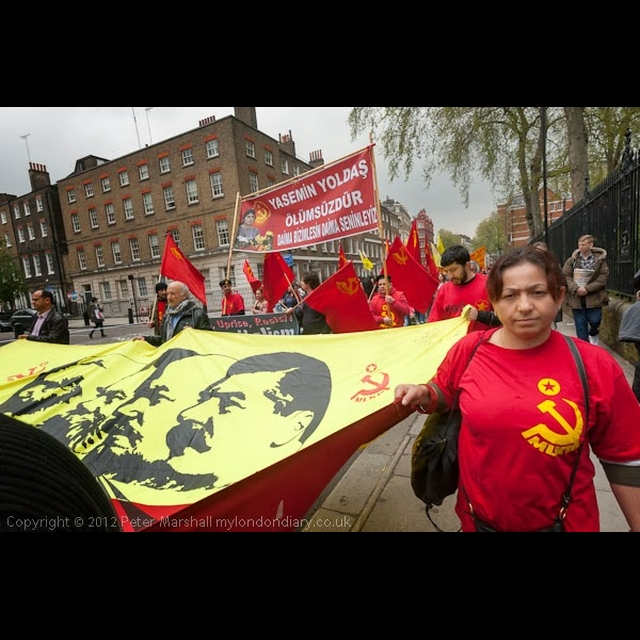MLKP: (518, 369, 591, 469)
